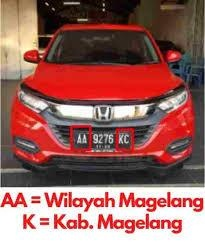plate: (72, 131, 132, 149)
